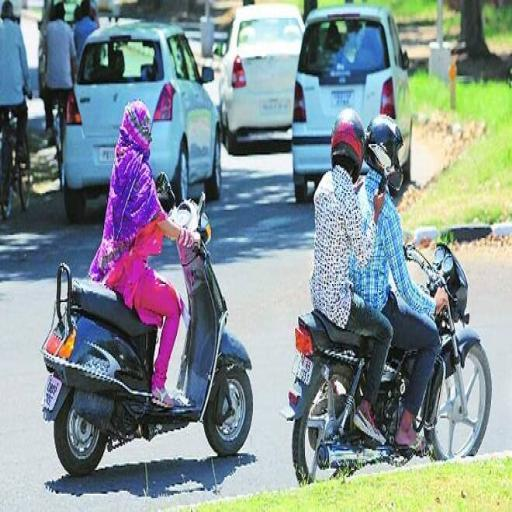helmet: (362, 90, 472, 456)
no helmet: (84, 90, 238, 454)
